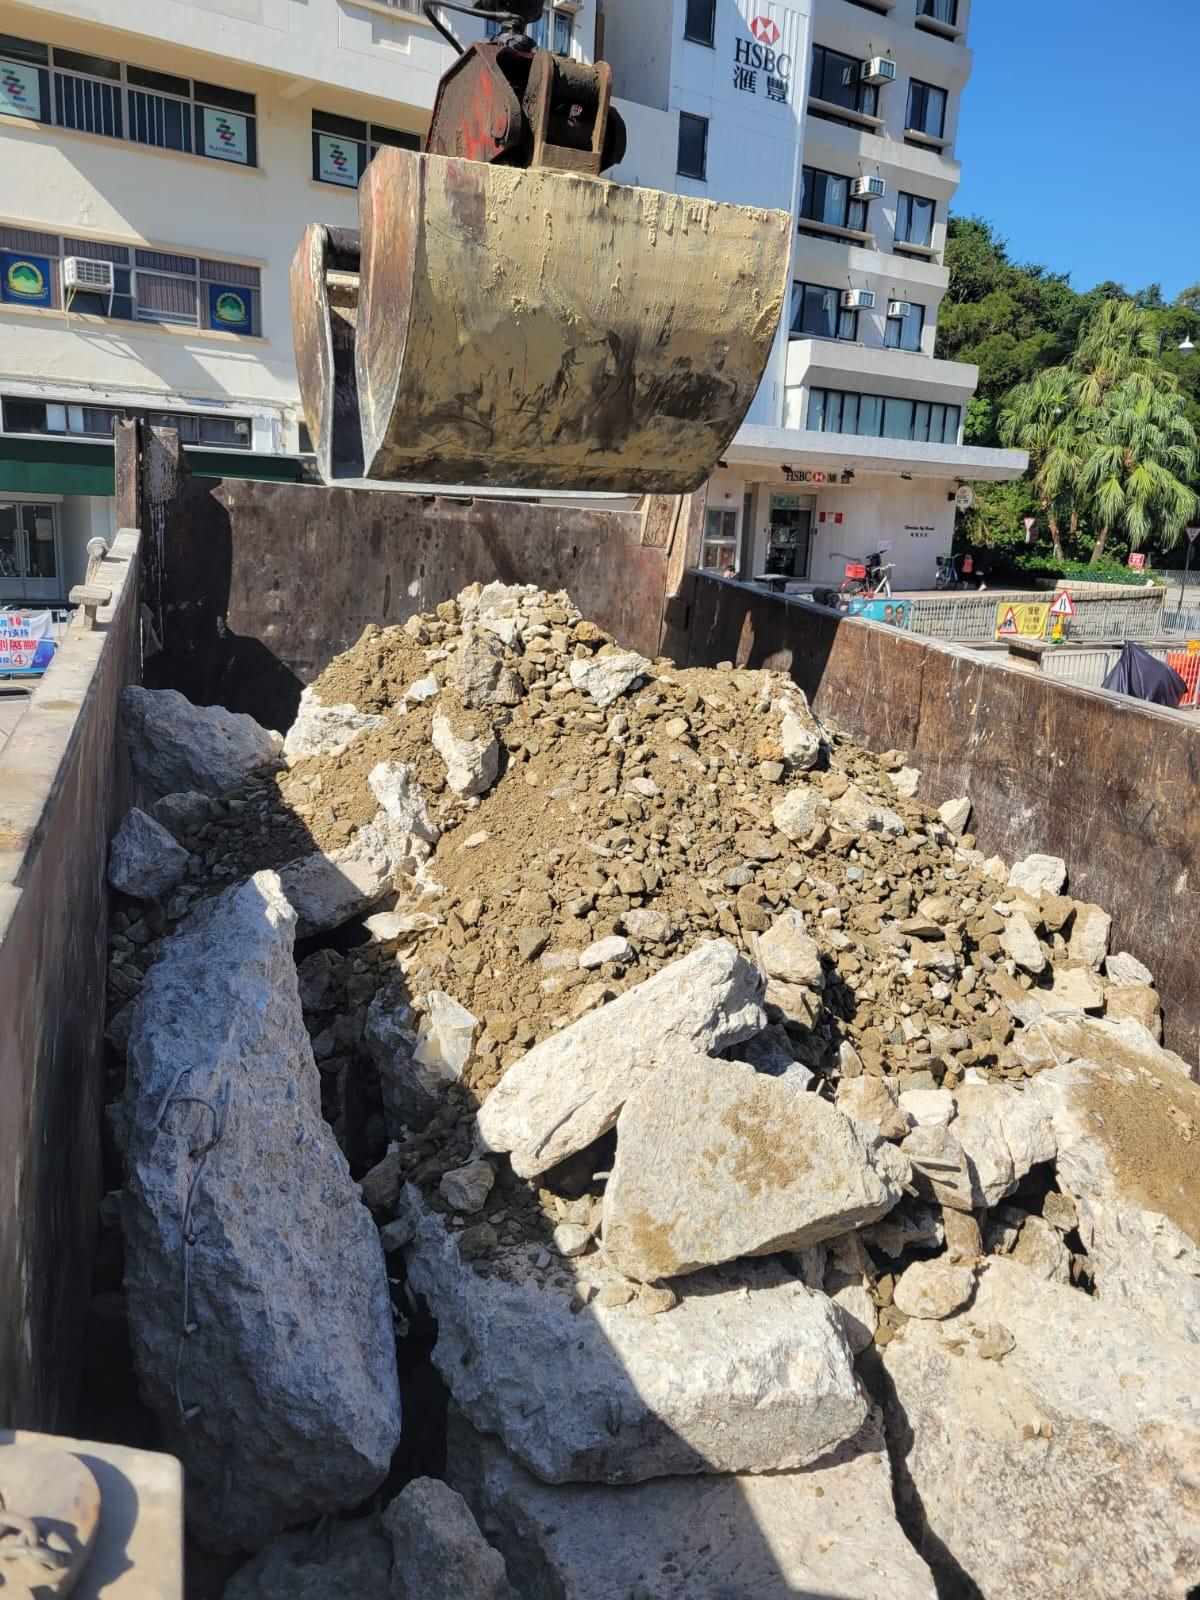stone: (100, 577, 1198, 1597), (107, 865, 403, 1555), (398, 1187, 871, 1487), (473, 934, 769, 1180), (597, 1046, 905, 1281)
